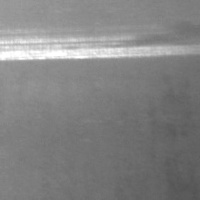scratches: (0, 22, 195, 65)
